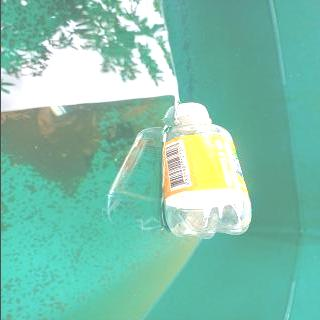bottle: (160, 103, 253, 239)
